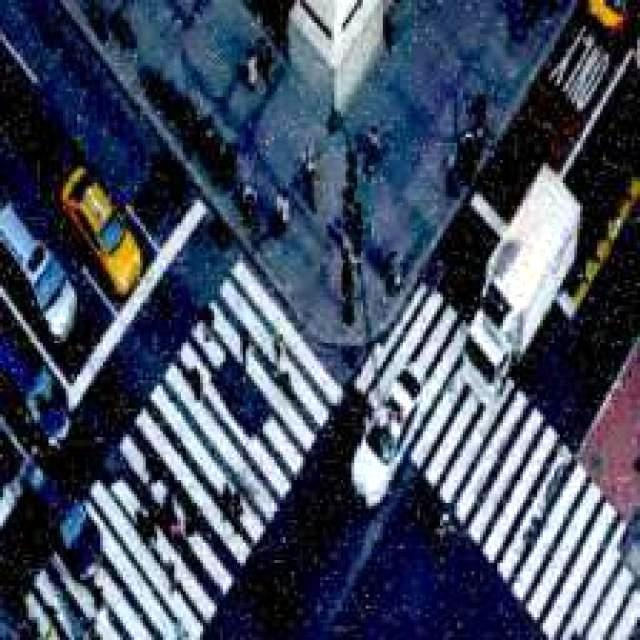crosswalk: (20, 258, 337, 640), (352, 278, 640, 640)
